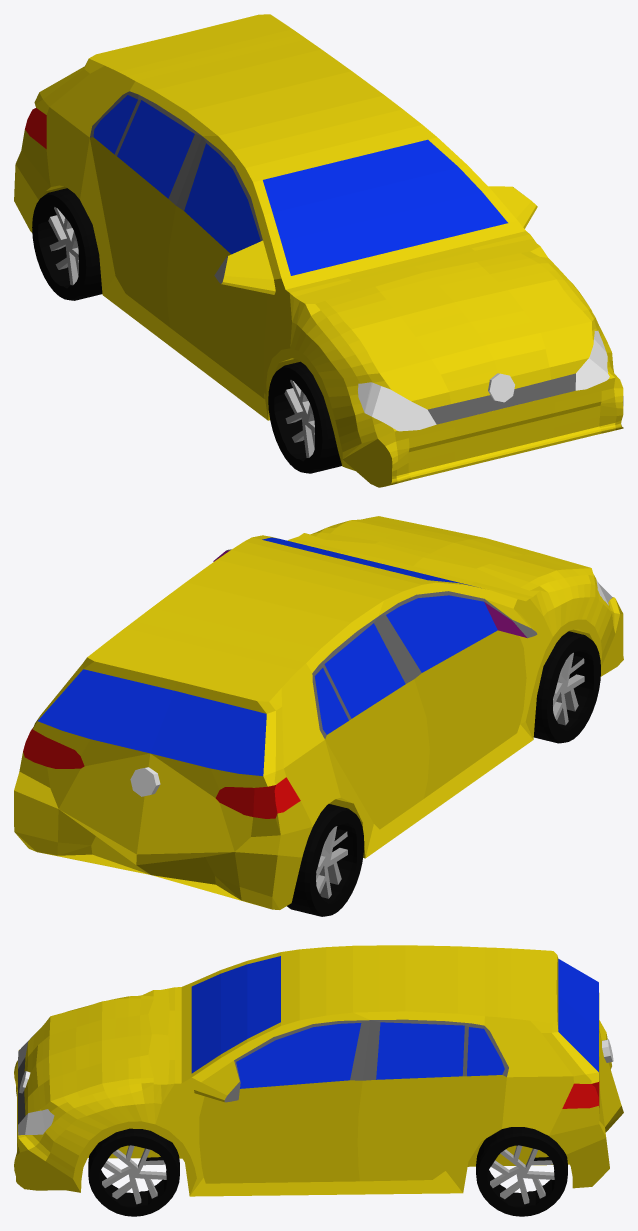
The model's file is Golf7ModelV3.glb.
3 renders of one model, top to bottom at view 1: azimuth 30°, elevation 25°; view 2: azimuth 150°, elevation 25°; view 3: azimuth 270°, elevation 25°, orthographic. The views are drawn at different scales.
Visible parts, largest first — view 1: Auto, Reifen_HR, Reifen_VR; view 2: Auto, Reifen_HR, Reifen_VR; view 3: Auto, Reifen_HL, Reifen_VL.
Boxes of the visible parts, x1,y1,x2,y2 form: Auto: (14,14,623,487); Reifen_HR: (32,188,102,300); Reifen_VR: (268,361,341,473); Auto: (14,516,623,909); Reifen_HR: (287,804,364,916); Reifen_VR: (533,631,600,743); Auto: (14,945,623,1196); Reifen_HL: (476,1127,567,1216); Reifen_VL: (88,1128,179,1216).
Bounding box in the file's own units: 3.22 × 2.18 × 6.54.
